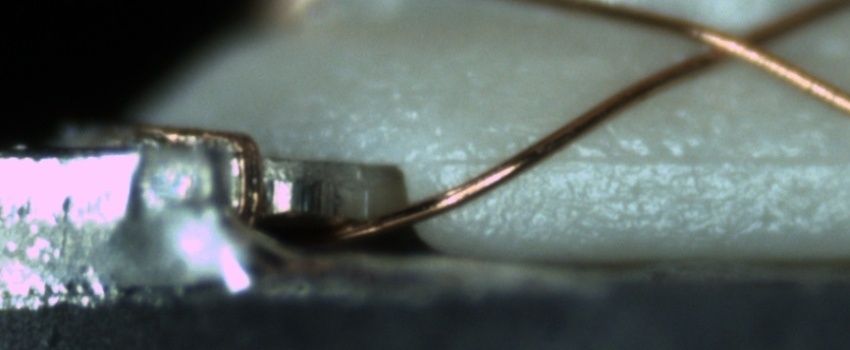CL: (684, 11, 795, 74)
DL: (427, 128, 849, 188)
TE: (139, 119, 274, 228)
